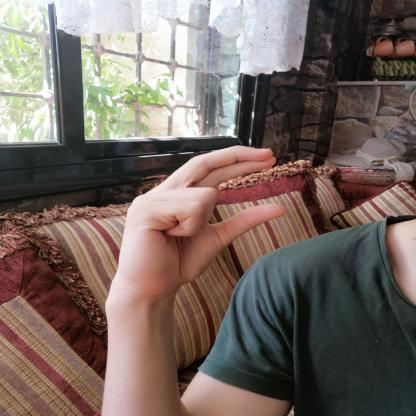DHELL: (108, 137, 297, 307)
